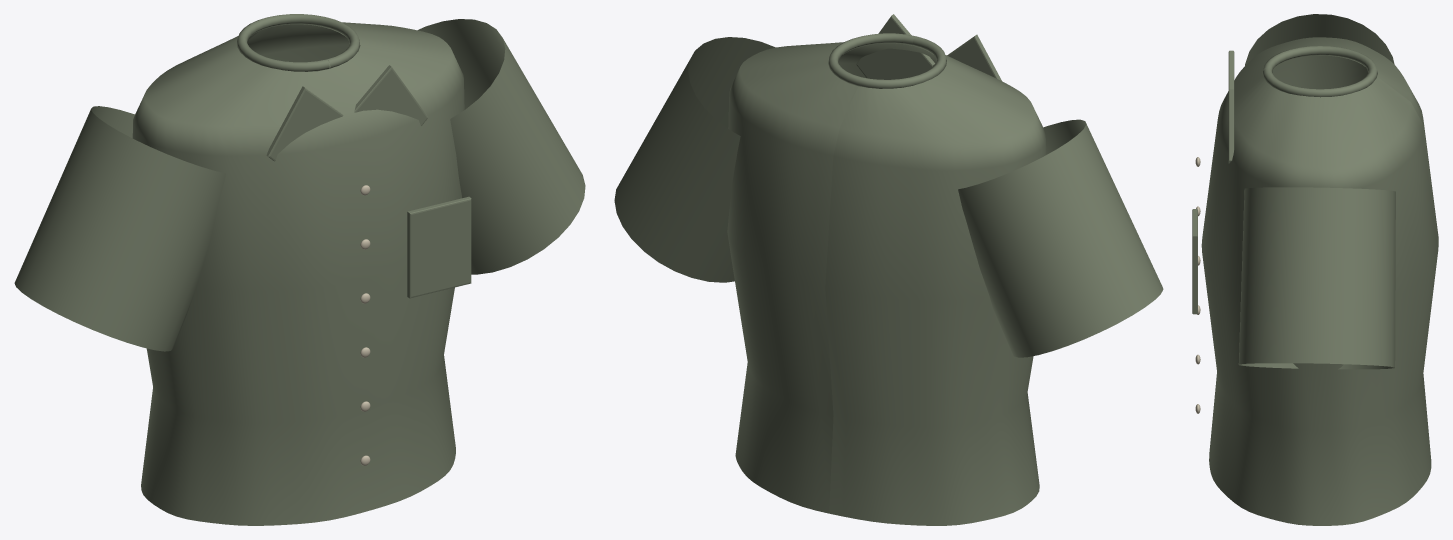
The model's file is chemise-riviera-femme.glb.
3 renders of one model, left to right at view 1: azimuth 30°, elevation 25°; view 2: azimuth 150°, elevation 25°; view 3: azimuth 270°, elevation 25°, orthographic. The views are drawn at different scales.
Parts seen in each view (by area): view 1: edit-09, short-sleeve (×2); view 2: edit-09, short-sleeve (×2); view 3: edit-09, short-sleeve (×2).
Boxes of the visible parts, bbox=[...] form: edit-09: bbox=[132, 14, 471, 525]; short-sleeve (×2): bbox=[14, 19, 585, 351]; edit-09: bbox=[727, 14, 1046, 525]; short-sleeve (×2): bbox=[614, 37, 1163, 357]; edit-09: bbox=[1192, 37, 1438, 525]; short-sleeve (×2): bbox=[1238, 14, 1395, 369].
Size of the model in its own units: 0.6966 by 0.5265 by 0.2985.
